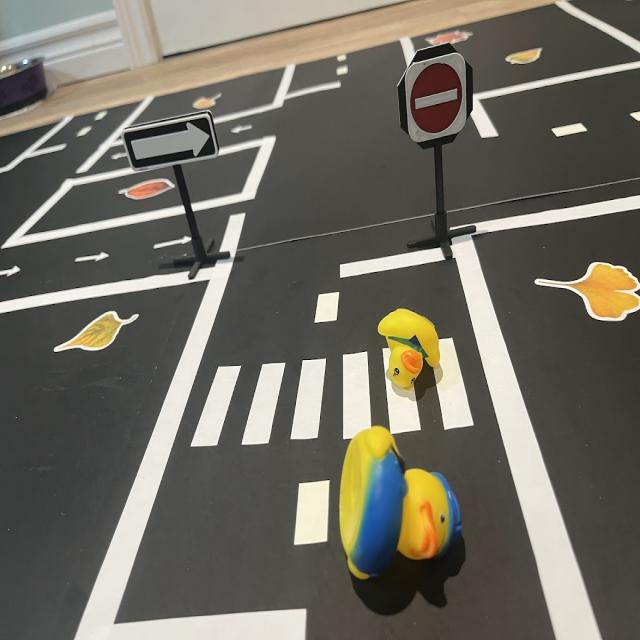duck_regular: (376, 304, 442, 388)
duck_specialty: (336, 423, 466, 584)
road_crosswalk: (184, 332, 479, 452)
road_oneway: (151, 230, 197, 255), (72, 248, 113, 269), (1, 263, 26, 284), (109, 146, 131, 165), (231, 122, 255, 135)
sign_noentry: (406, 50, 466, 141)
sign_oneway_right: (124, 112, 220, 170)
